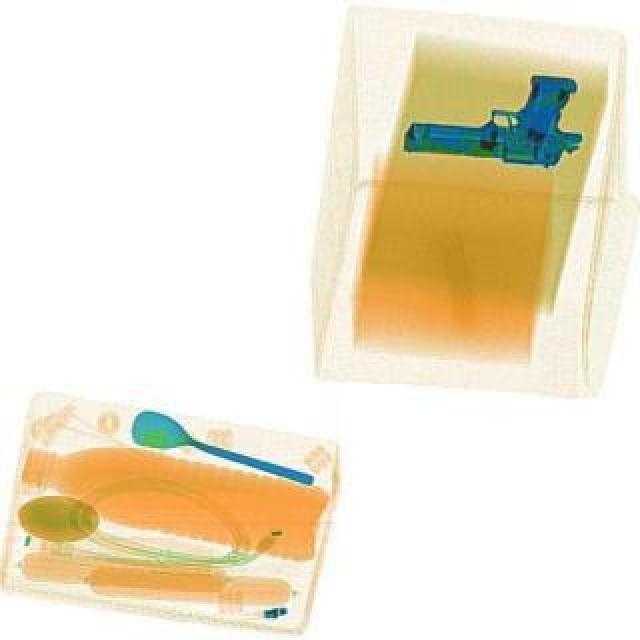gun: (400, 64, 584, 168)
